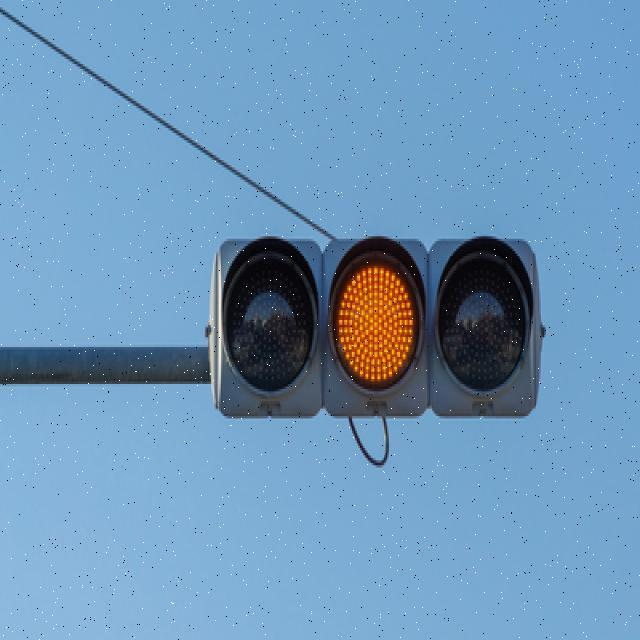yellow_light: (328, 224, 422, 410)
